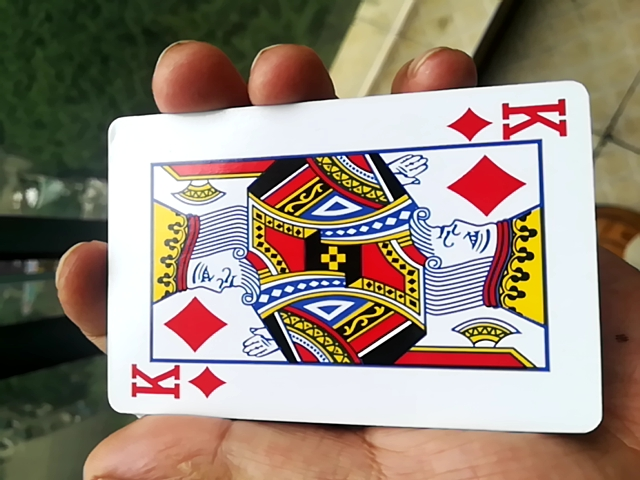fk k: (96, 95, 597, 439)
